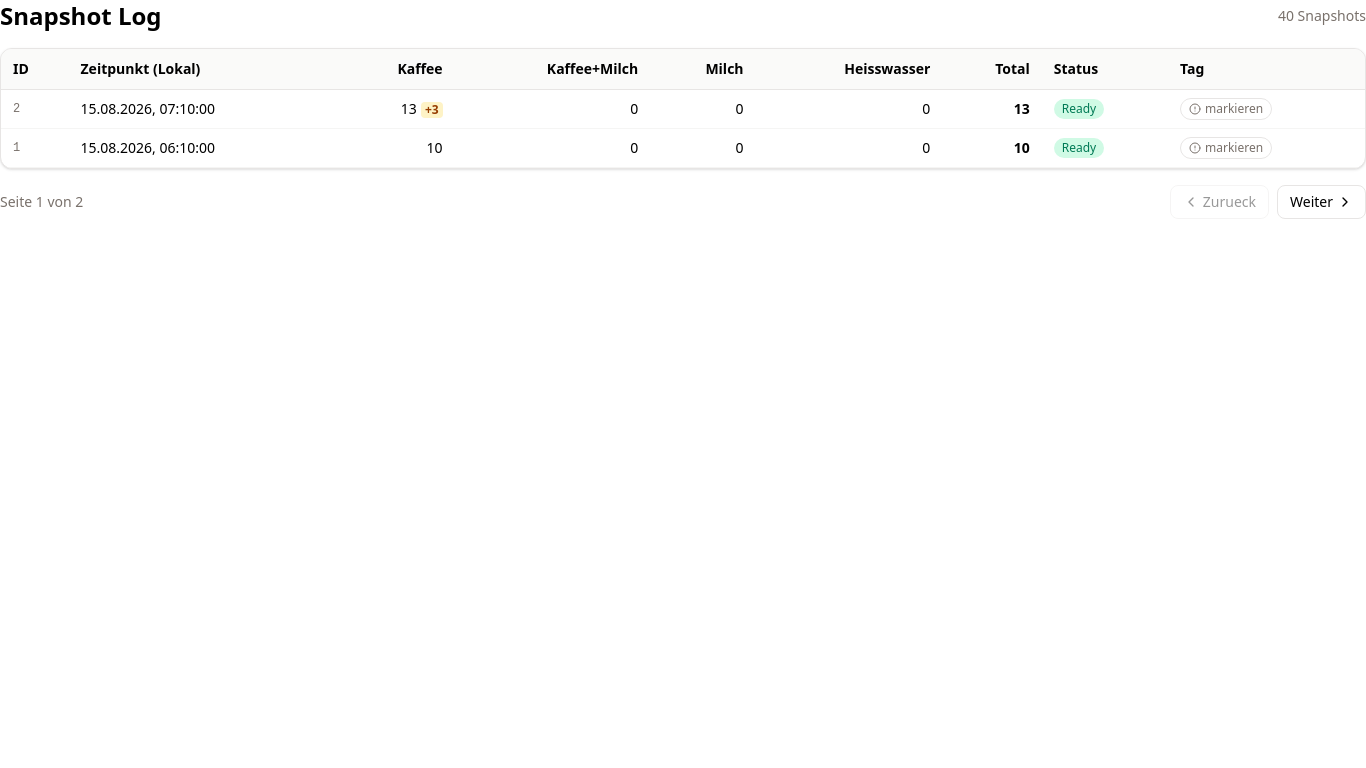
Test: LogPage › opens the backfill modal for an unmarked day
expect the heading "Snapshot Log" is shown: met, box 0,0 -> 162,32
Click the button "markieren" in the row of "15.08.2026, 07:10:00". click: [1226, 109]
box: 1180,98 -> 1272,120
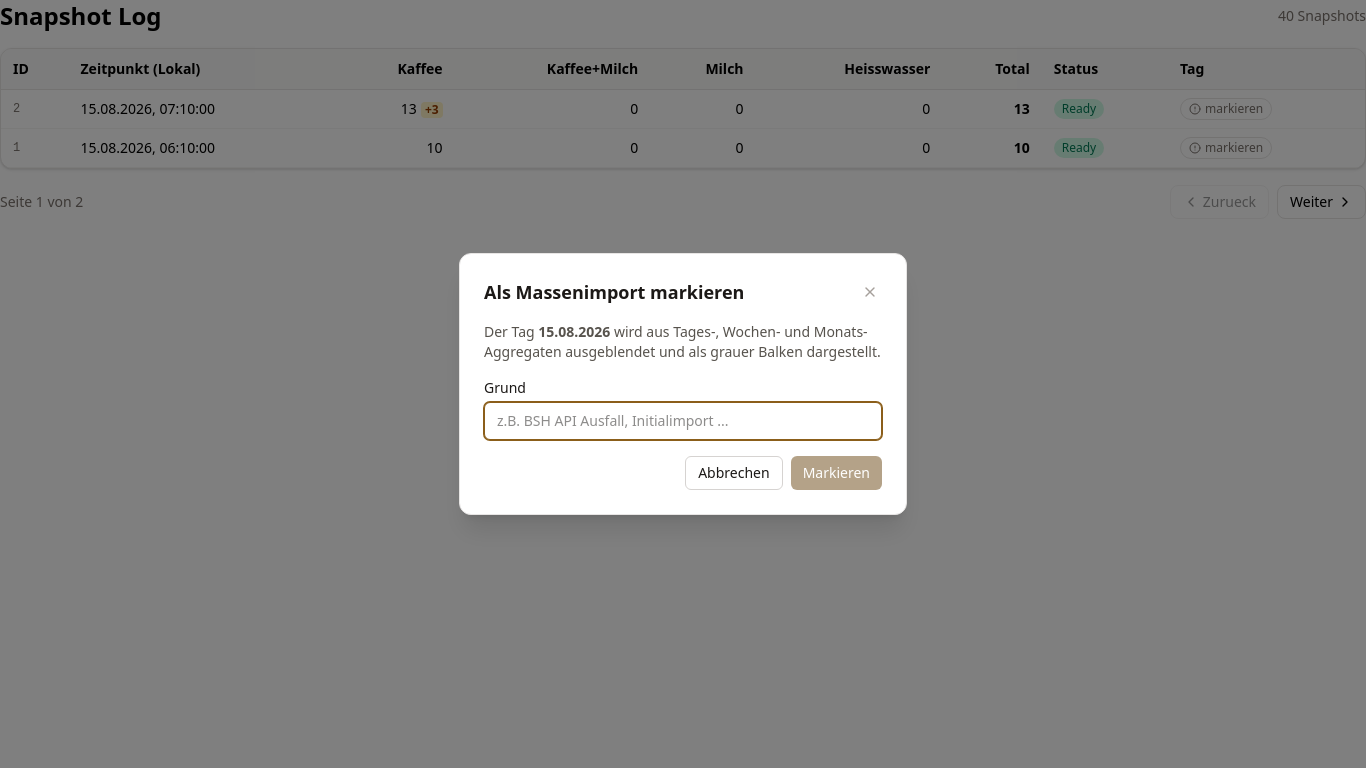
expect the heading "Als Massenimport markieren" is shown: met, box 484,278 -> 744,306
